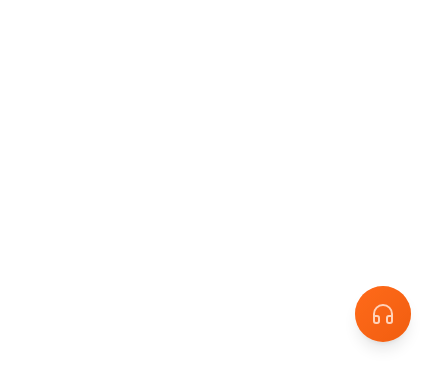
FloatingCallButton › should show error when API fails
The width and height of the screenshot is (435, 366).
Click the button named "Open voice call": (383,314) [355,286,411,342]
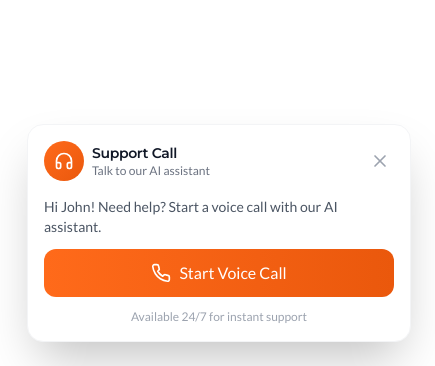
Check: the button "Start Voice Call" is shown
Click the button "Start Voice Call": (219,273) [44,249,394,297]
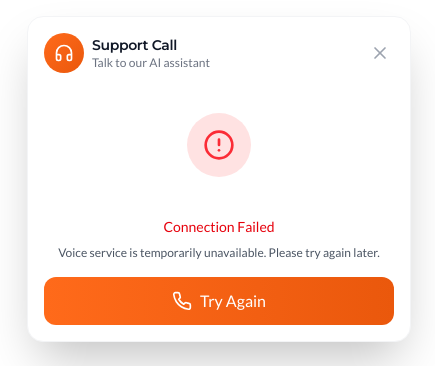
Check: the text "temporarily unavailable" is shown, box [58,245,380,260]
